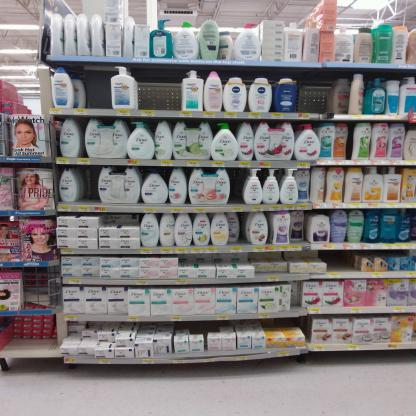Void: (138, 65, 179, 110), (84, 68, 112, 108), (300, 72, 326, 109), (83, 167, 97, 204), (230, 168, 244, 203), (324, 251, 350, 268), (264, 322, 303, 328)
